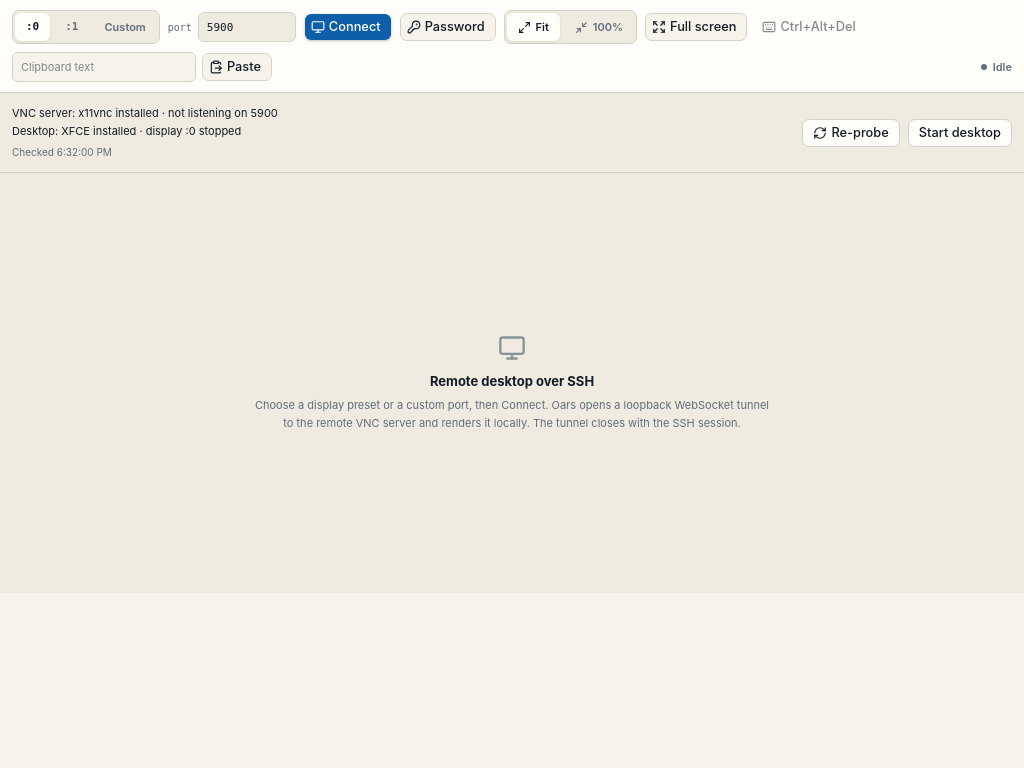
Test: stops setup when its fresh probe fails
Click the button "Start desktop": (960, 133) [908,119,1012,147]
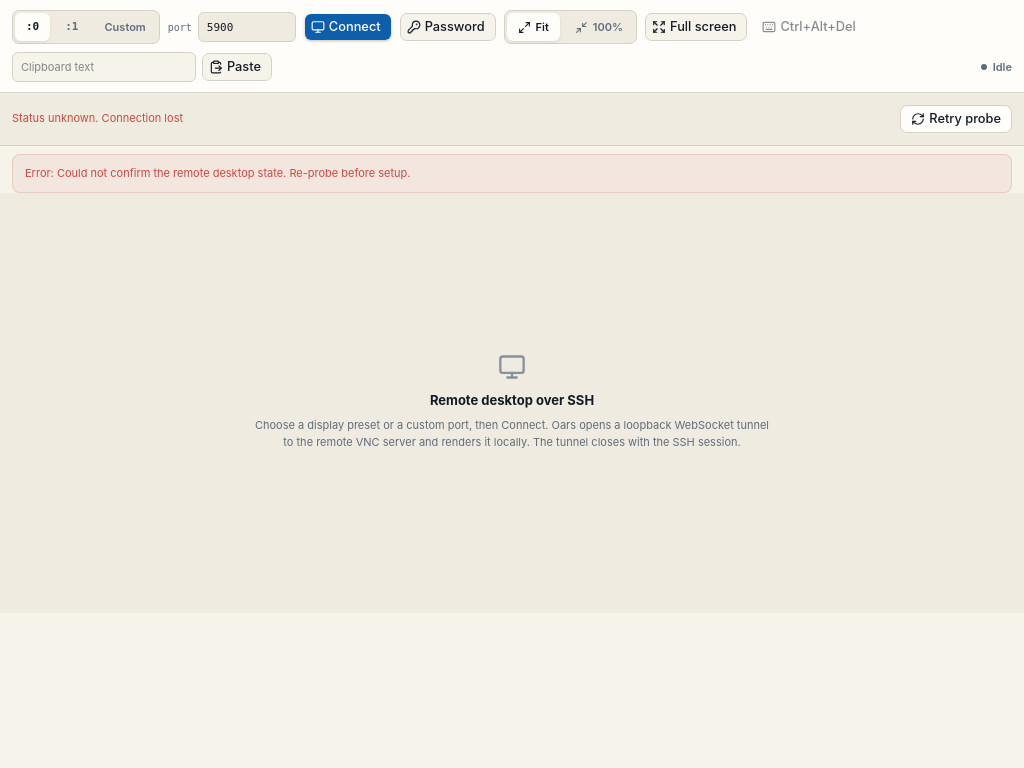
Expected: the text "Could not confirm the remote desktop state" is shown, [25,166,410,180]
